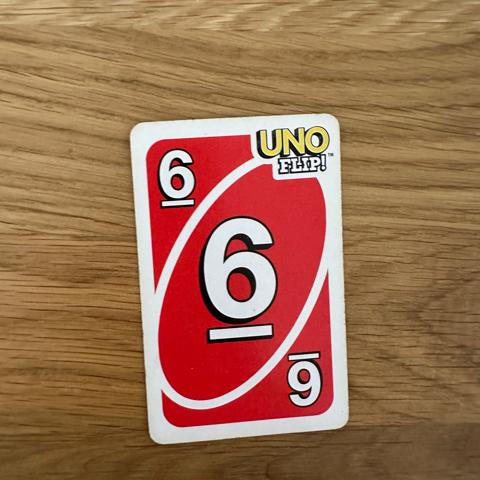2_yellow: (201, 210, 282, 344), (153, 144, 196, 208), (284, 353, 331, 410)
